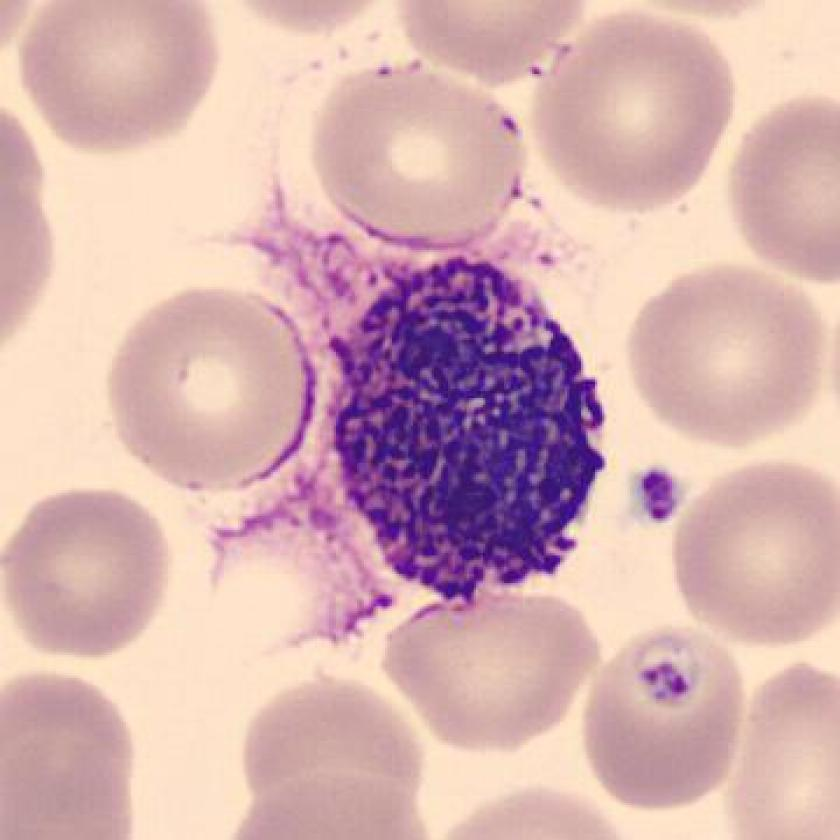basophil: (314, 230, 612, 631)
